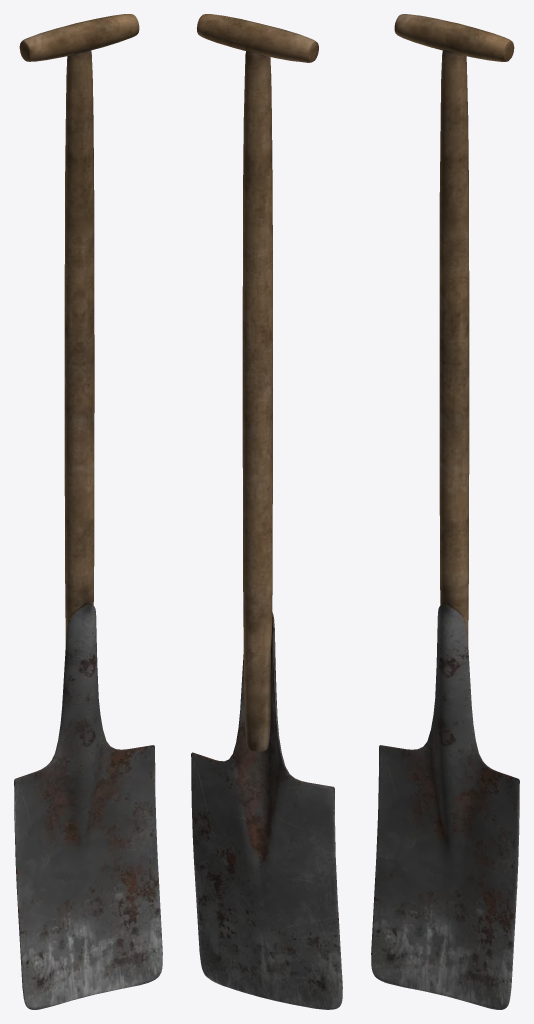
Rendered from ph-rusted_spade_01.glb.
3 views of the same model, side by side, from view 1: azimuth 30°, elevation 25°; view 2: azimuth 150°, elevation 25°; view 3: azimuth 330°, elevation 25° (orthographic). The views are drawn at different scales.
Visible parts, largest first — view 1: rusted_spade_01; view 2: rusted_spade_01; view 3: rusted_spade_01.
Part boxes in pixels (x1,y1,x2,y2): rusted_spade_01: [14, 14, 162, 1009]; rusted_spade_01: [191, 14, 342, 1009]; rusted_spade_01: [371, 14, 519, 1009].
Bounding box in the file's own units: 0.1681 × 1.1 × 0.0456.
1 material, 1 textured.
